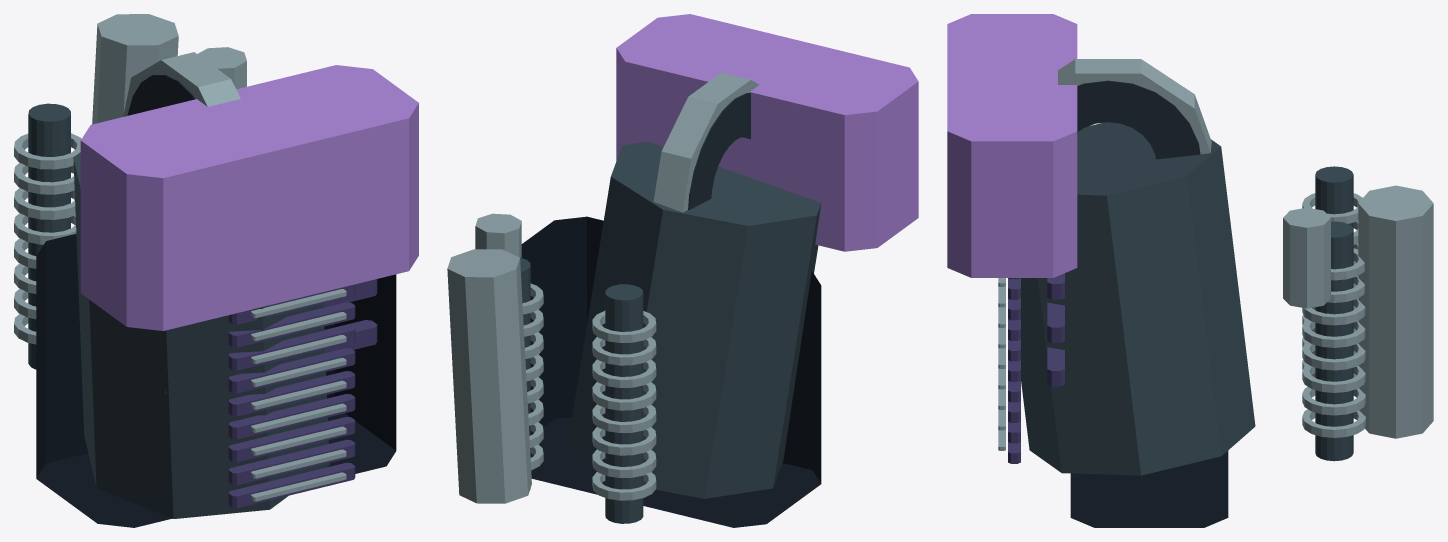
The model's file is enemy_tank_4k_shin_l.obj.
The picture shows the model from 3 angles, left to right: view 1: azimuth 30°, elevation 25°; view 2: azimuth 150°, elevation 25°; view 3: azimuth 270°, elevation 25°; orthographic projection. The views are drawn at different scales.
Bounding box in the file's own units: 0.51 × 0.6084 × 0.71.
